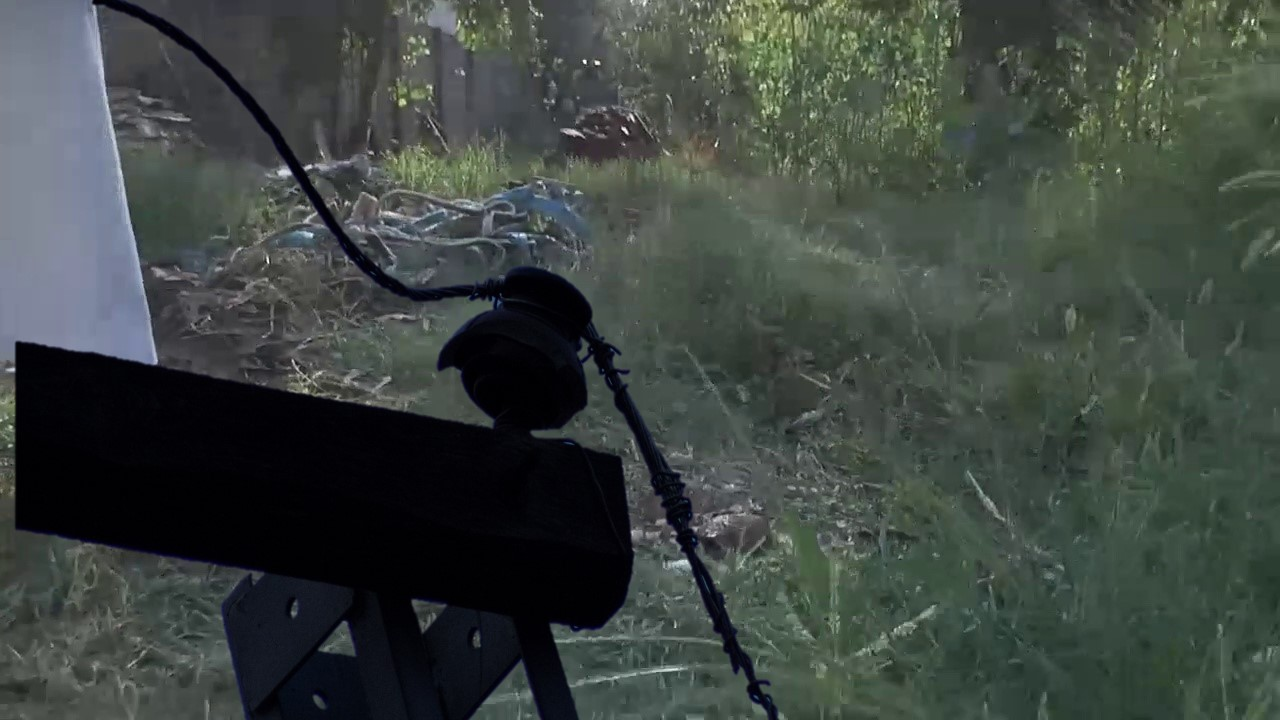defect_pin: (427, 265, 603, 433)
